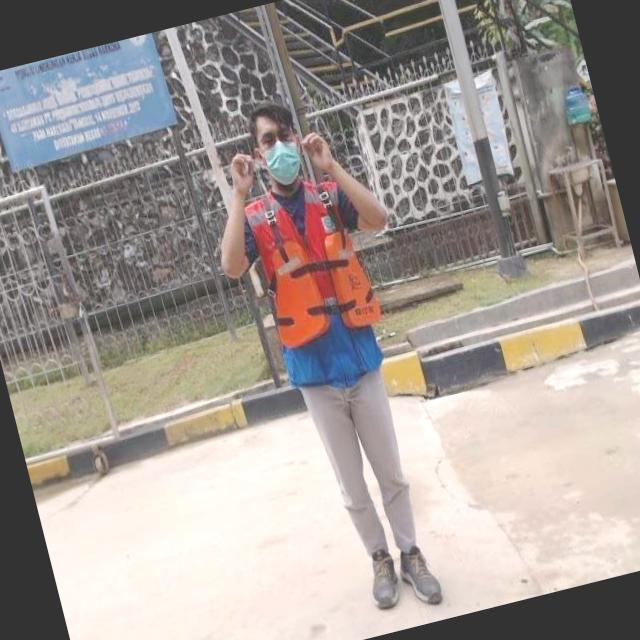vest: (241, 172, 392, 390)
